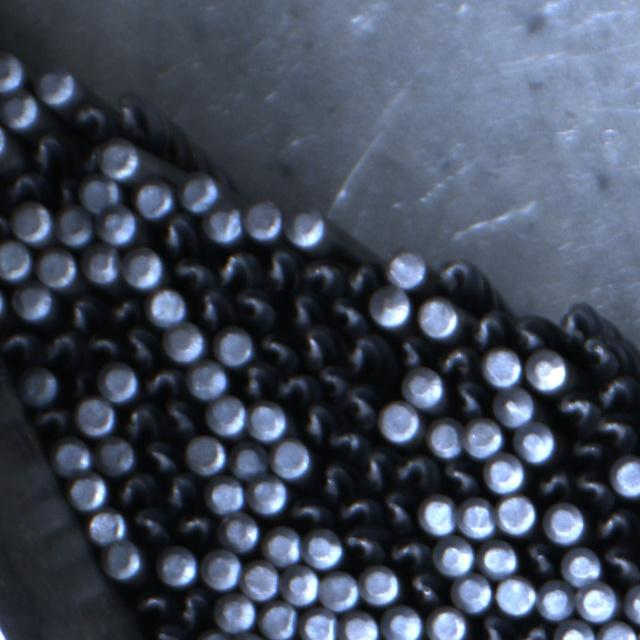tool: (378, 400, 421, 443), (368, 285, 412, 327), (9, 200, 53, 242), (433, 535, 478, 576), (94, 204, 137, 246), (155, 544, 198, 586), (416, 296, 459, 338), (402, 366, 446, 407), (526, 350, 570, 391), (82, 244, 123, 288), (200, 547, 242, 589), (122, 247, 164, 289), (544, 502, 586, 544), (178, 169, 220, 211), (246, 473, 288, 514), (205, 395, 247, 436), (220, 510, 262, 551), (76, 174, 119, 214), (215, 593, 258, 633), (13, 282, 56, 322), (53, 434, 96, 474), (481, 346, 523, 386), (418, 494, 458, 536), (483, 452, 525, 492), (186, 435, 228, 475), (73, 396, 115, 436), (98, 139, 140, 179), (320, 570, 360, 612), (271, 438, 313, 478), (514, 422, 556, 462), (451, 572, 493, 612), (164, 321, 206, 361), (263, 525, 303, 566), (359, 563, 399, 604), (497, 495, 538, 535), (462, 418, 503, 458), (37, 247, 78, 287), (18, 365, 59, 405), (97, 361, 138, 401), (134, 178, 174, 219), (202, 203, 243, 243), (104, 540, 145, 580), (457, 496, 496, 538), (496, 576, 538, 615), (244, 199, 283, 241), (186, 360, 228, 399), (146, 288, 188, 327), (36, 68, 79, 106), (284, 208, 327, 246), (249, 400, 289, 440), (215, 326, 255, 366), (304, 528, 344, 568), (560, 545, 600, 585), (282, 564, 321, 605), (577, 581, 618, 620), (537, 578, 575, 620), (428, 417, 466, 459), (242, 558, 280, 599), (97, 436, 136, 475), (205, 474, 245, 512), (480, 538, 520, 576), (230, 441, 270, 479), (1, 90, 39, 130), (385, 252, 427, 288), (382, 605, 425, 640), (259, 600, 298, 638), (88, 507, 128, 544), (426, 606, 468, 640), (56, 208, 93, 246), (301, 607, 343, 640), (70, 474, 108, 510), (0, 238, 32, 279), (338, 609, 378, 640), (611, 453, 640, 494), (0, 50, 26, 92), (553, 618, 595, 640), (596, 620, 638, 640), (623, 581, 640, 623), (0, 120, 8, 170), (193, 630, 232, 640), (232, 631, 271, 640)
tool_b: (336, 331, 388, 376), (574, 335, 624, 377), (556, 300, 598, 347), (23, 129, 68, 172), (390, 446, 436, 488), (430, 255, 480, 293), (212, 248, 259, 288), (339, 381, 379, 428), (463, 306, 510, 346), (155, 214, 200, 255), (229, 285, 273, 325), (552, 390, 597, 429), (588, 504, 634, 542), (343, 522, 385, 563), (597, 410, 639, 451), (295, 325, 335, 367), (314, 459, 356, 499), (260, 248, 298, 292), (278, 288, 320, 327), (120, 400, 162, 439), (299, 256, 342, 294), (192, 285, 232, 325), (378, 490, 416, 532), (255, 329, 297, 367), (141, 362, 184, 399), (325, 295, 368, 332), (353, 448, 389, 492), (164, 255, 210, 289), (296, 402, 335, 442), (0, 325, 40, 364), (71, 100, 112, 138), (41, 328, 83, 365), (386, 533, 429, 569), (137, 439, 180, 475), (594, 374, 637, 410), (62, 292, 101, 331), (601, 543, 639, 583), (159, 472, 199, 510), (512, 313, 552, 351), (170, 507, 212, 543), (272, 368, 316, 402), (333, 493, 378, 526), (123, 326, 160, 366), (172, 586, 209, 626), (162, 399, 200, 437), (343, 258, 382, 295), (571, 468, 611, 504), (404, 570, 444, 606), (439, 459, 479, 495), (130, 585, 171, 620), (116, 471, 156, 506), (438, 342, 477, 377), (130, 508, 168, 543), (1, 172, 42, 204), (326, 425, 368, 456), (521, 540, 556, 577), (238, 362, 273, 399), (104, 292, 142, 326), (532, 465, 570, 499), (287, 496, 328, 527), (31, 404, 72, 435), (565, 433, 606, 464), (450, 378, 484, 415), (395, 334, 428, 369), (85, 330, 123, 360), (316, 365, 349, 399), (474, 615, 516, 640), (518, 622, 554, 640), (151, 624, 191, 640)
